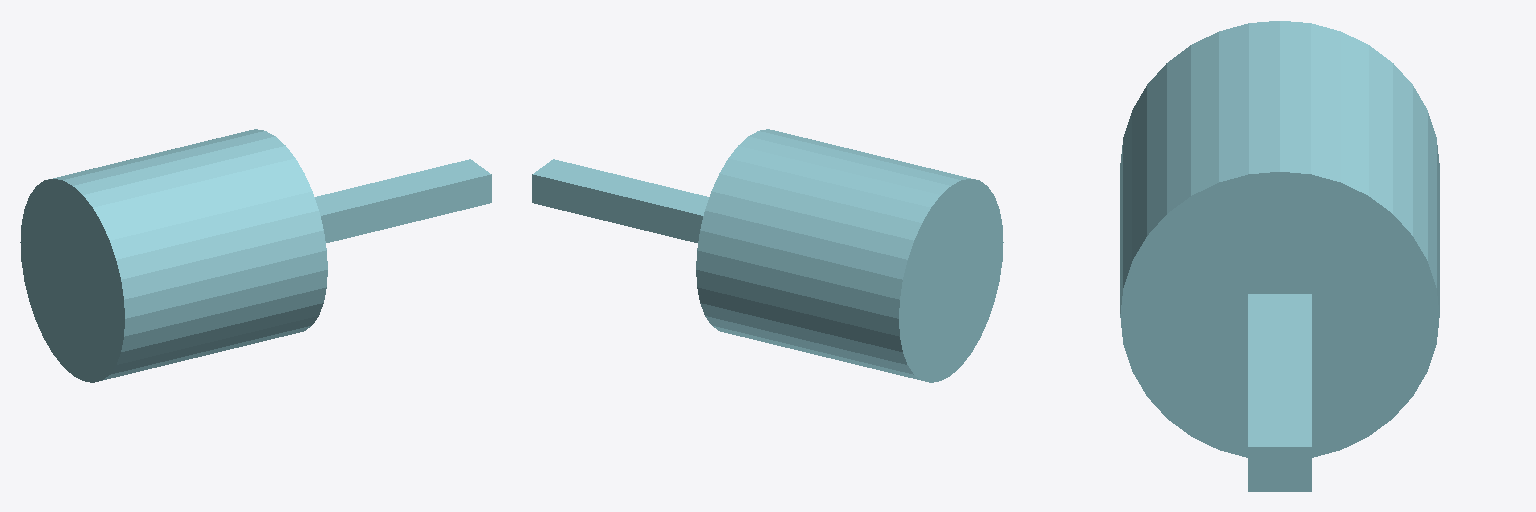
robot.urdf — cylinder_screwdriver_v3009:
<?xml version="1.0"?>
<robot name="cylinder_screwdriver_v3009">

  <link name="cylinder_screwdriver_v3009">
    <!-- Handle -->
    <visual>
      <origin xyz="0 0 0" rpy="0 1.5707963267948966 0"/>
      <geometry>
        <cylinder length="0.0766051418650772" radius="0.0342156961081288"/>
      </geometry>
      <material name="material">
        <color rgba="0.639 0.847 0.882 1.0"/>
      </material>
    </visual>
    <collision>
      <origin xyz="0 0 0" rpy="0 1.5707963267948966 0"/>
      <geometry>
        <cylinder length="0.0766051418650772" radius="0.0342156961081288"/>
      </geometry>
    </collision>

    <!-- Head -->
    <visual>
      <origin xyz="0.07710640086173598 0 0" rpy="0 0 0"/>
      <geometry>
        <box size="0.07760765985839477 0.013628578141357133 0.010422466094117601"/>
      </geometry>
      <material name="material">
        <color rgba="0.639 0.847 0.882 1.0"/>
      </material>
    </visual>
    <collision>
      <origin xyz="0.07710640086173598 0 0" rpy="0 0 0"/>
      <geometry>
        <box size="0.07760765985839477 0.013628578141357133 0.010422466094117601"/>
      </geometry>
    </collision>

    <inertial>
      <density value="400.0"/>
    </inertial>
  </link>

</robot>

--- Facts derived from the render (not from the file) ---
Views: 3 orthographic renders of the robot side by side, from view 1: azimuth 30°, elevation 25°; view 2: azimuth 150°, elevation 25°; view 3: azimuth 270°, elevation 25°.
Robot: cylinder_screwdriver_v3009 — 1 links, 0 joints (none); root link cylinder_screwdriver_v3009; default pose: every joint at zero.
Links seen in each view (by area): view 1: cylinder_screwdriver_v3009; view 2: cylinder_screwdriver_v3009; view 3: cylinder_screwdriver_v3009.
Link boxes in pixels (bbox=[...]): cylinder_screwdriver_v3009: bbox=[20, 129, 491, 382]; cylinder_screwdriver_v3009: bbox=[532, 129, 1003, 382]; cylinder_screwdriver_v3009: bbox=[1120, 21, 1439, 491].
Bounding box of the posed robot: 0.1542 × 0.0684 × 0.0684 m (x, y, z).
Geometry: primitives only (box / cylinder / sphere), no mesh files.
